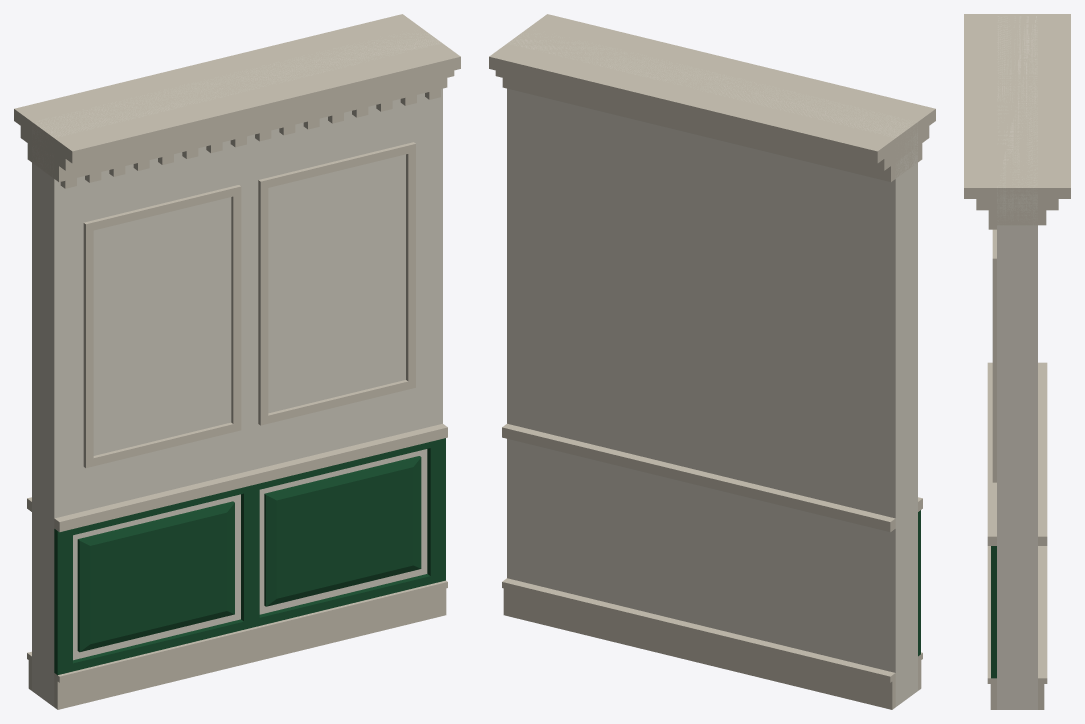
Rendered from PROP_Wall.fbx.
3 views of the same model, side by side, from view 1: azimuth 30°, elevation 25°; view 2: azimuth 150°, elevation 25°; view 3: azimuth 270°, elevation 25° (orthographic). The views are drawn at different scales.
Visible parts, largest first — view 1: PROP_Wall; view 2: PROP_Wall; view 3: PROP_Wall.
Boxes of the visible parts, left/top/right/bottom form: PROP_Wall: left=14, top=14, right=460, bottom=709; PROP_Wall: left=489, top=14, right=935, bottom=709; PROP_Wall: left=964, top=14, right=1070, bottom=709.
Bounding box in the file's own units: 2 × 2.8 × 0.52.
